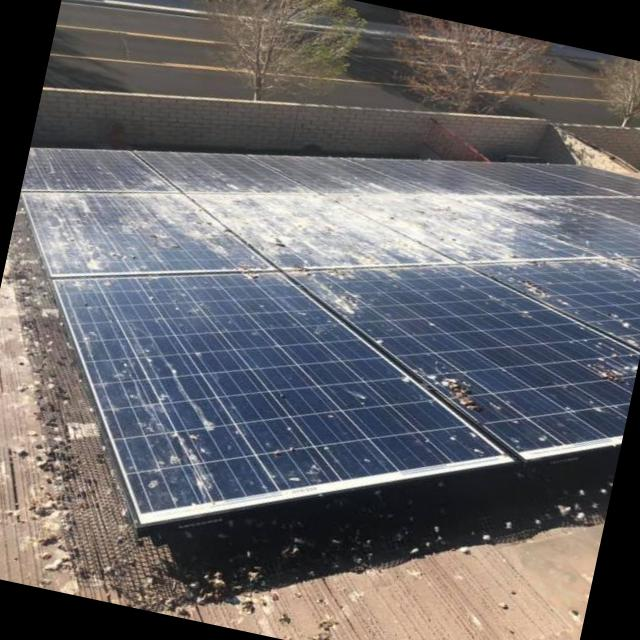faulty: (56, 274, 500, 512), (289, 263, 638, 447), (25, 194, 280, 275), (181, 196, 437, 269), (321, 199, 578, 262), (473, 258, 640, 348), (463, 198, 640, 259), (131, 152, 304, 191), (248, 158, 429, 195), (30, 150, 171, 190)
